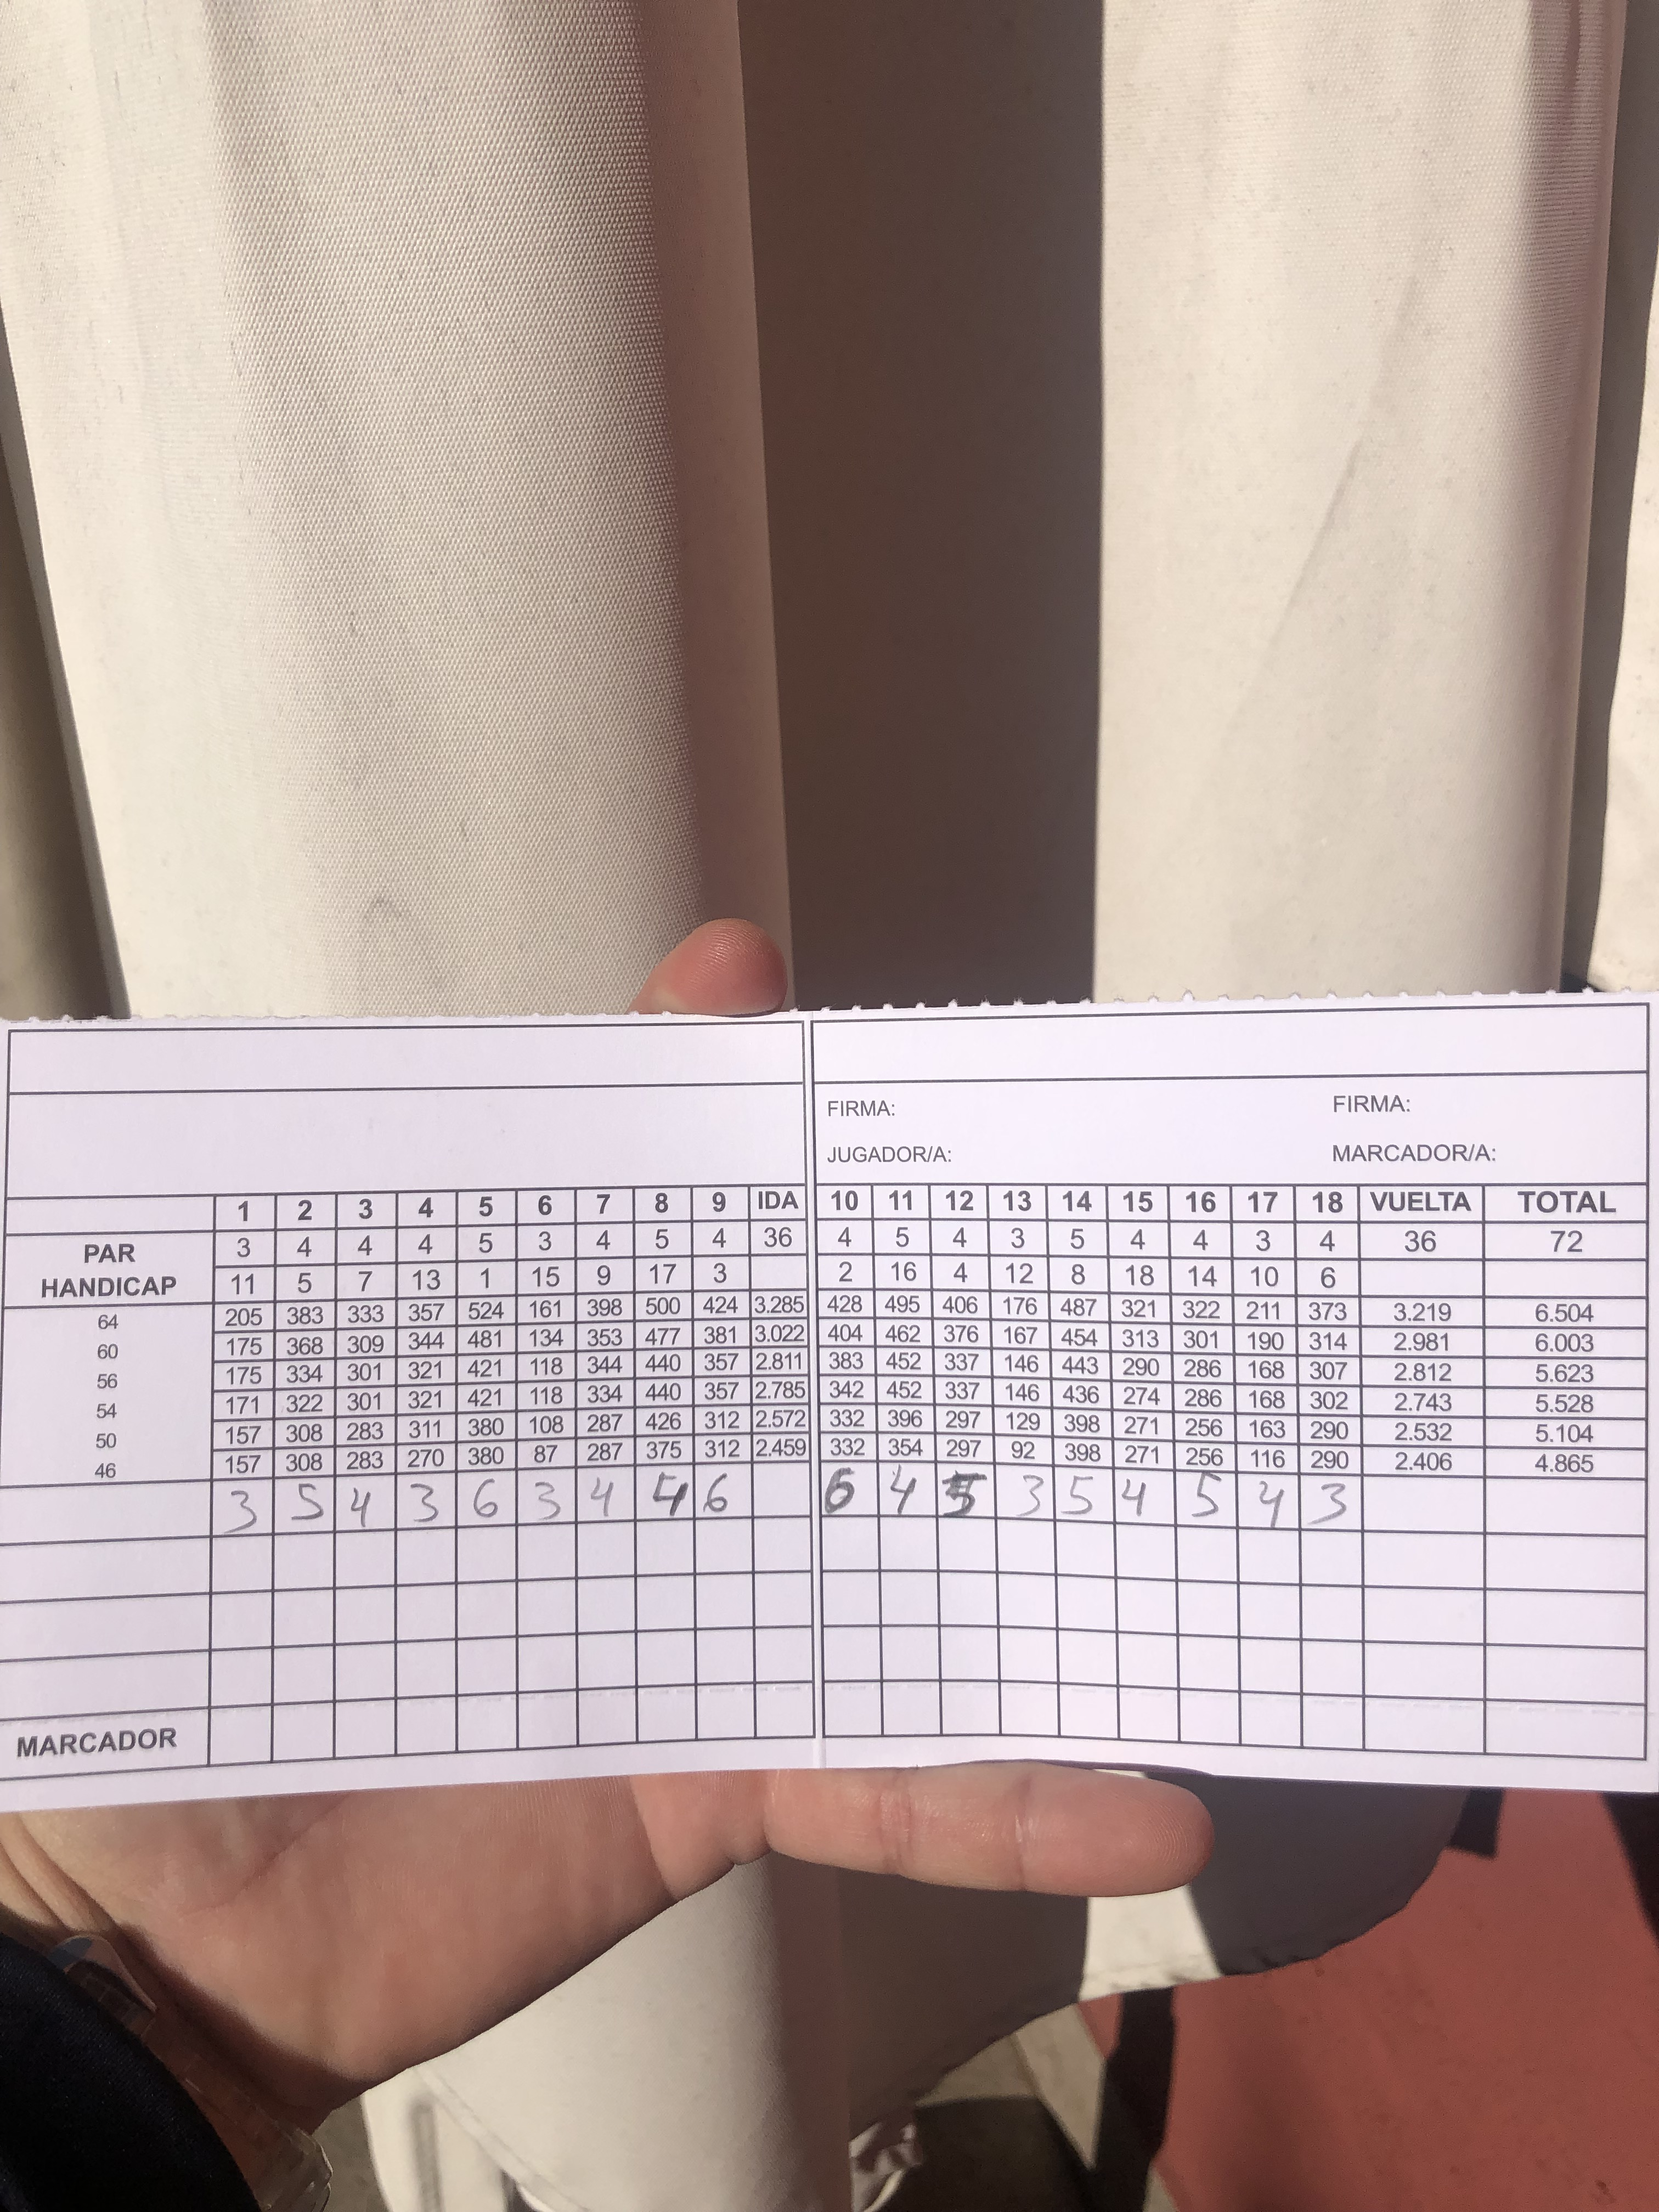par: (84, 1228, 1582, 1261)
score: (221, 1480, 1359, 1529)
